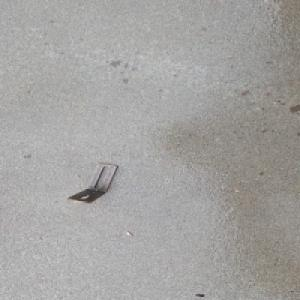MetalPart: (66, 162, 118, 203)
